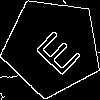E: (27, 22, 83, 78)
